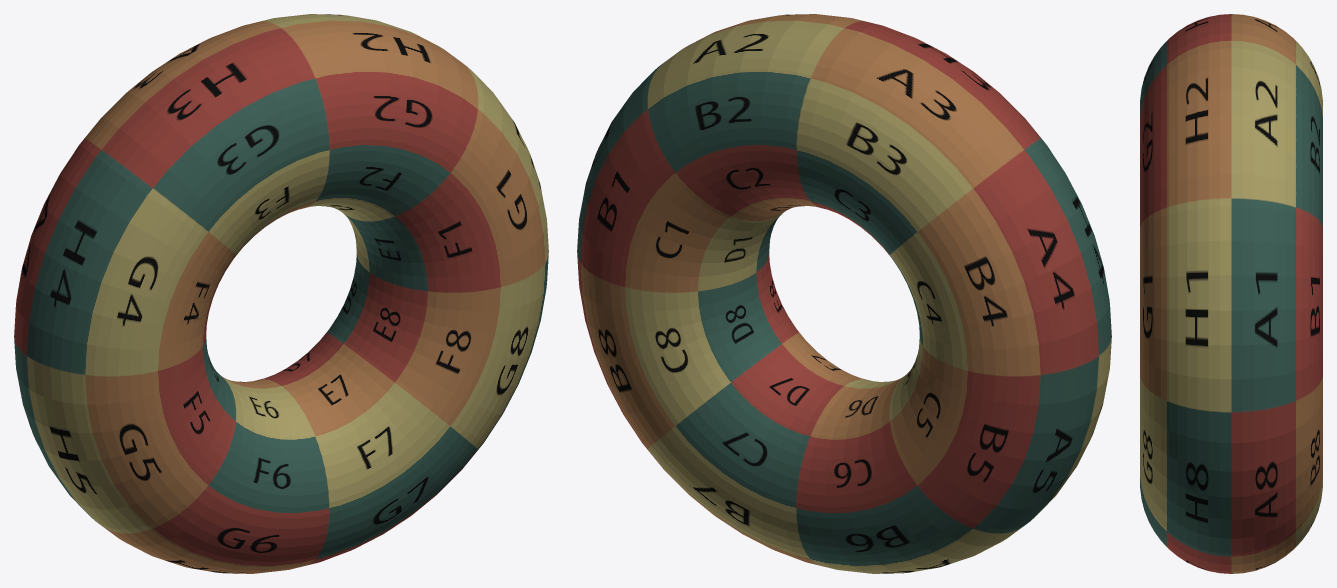
File: texture_torus_R6_r18.glb
3 views of the same model, side by side, from view 1: azimuth 30°, elevation 25°; view 2: azimuth 150°, elevation 25°; view 3: azimuth 270°, elevation 25° (orthographic). The views are drawn at different scales.
Visible parts, largest first — view 1: world; view 2: world; view 3: world.
Part boxes in pixels (bbox=[...]): world: bbox=[14, 14, 548, 573]; world: bbox=[577, 14, 1111, 573]; world: bbox=[1140, 14, 1322, 573].
Bounding box in the file's own units: 20.8 × 20.76 × 6.79.
1 material, 1 textured.
